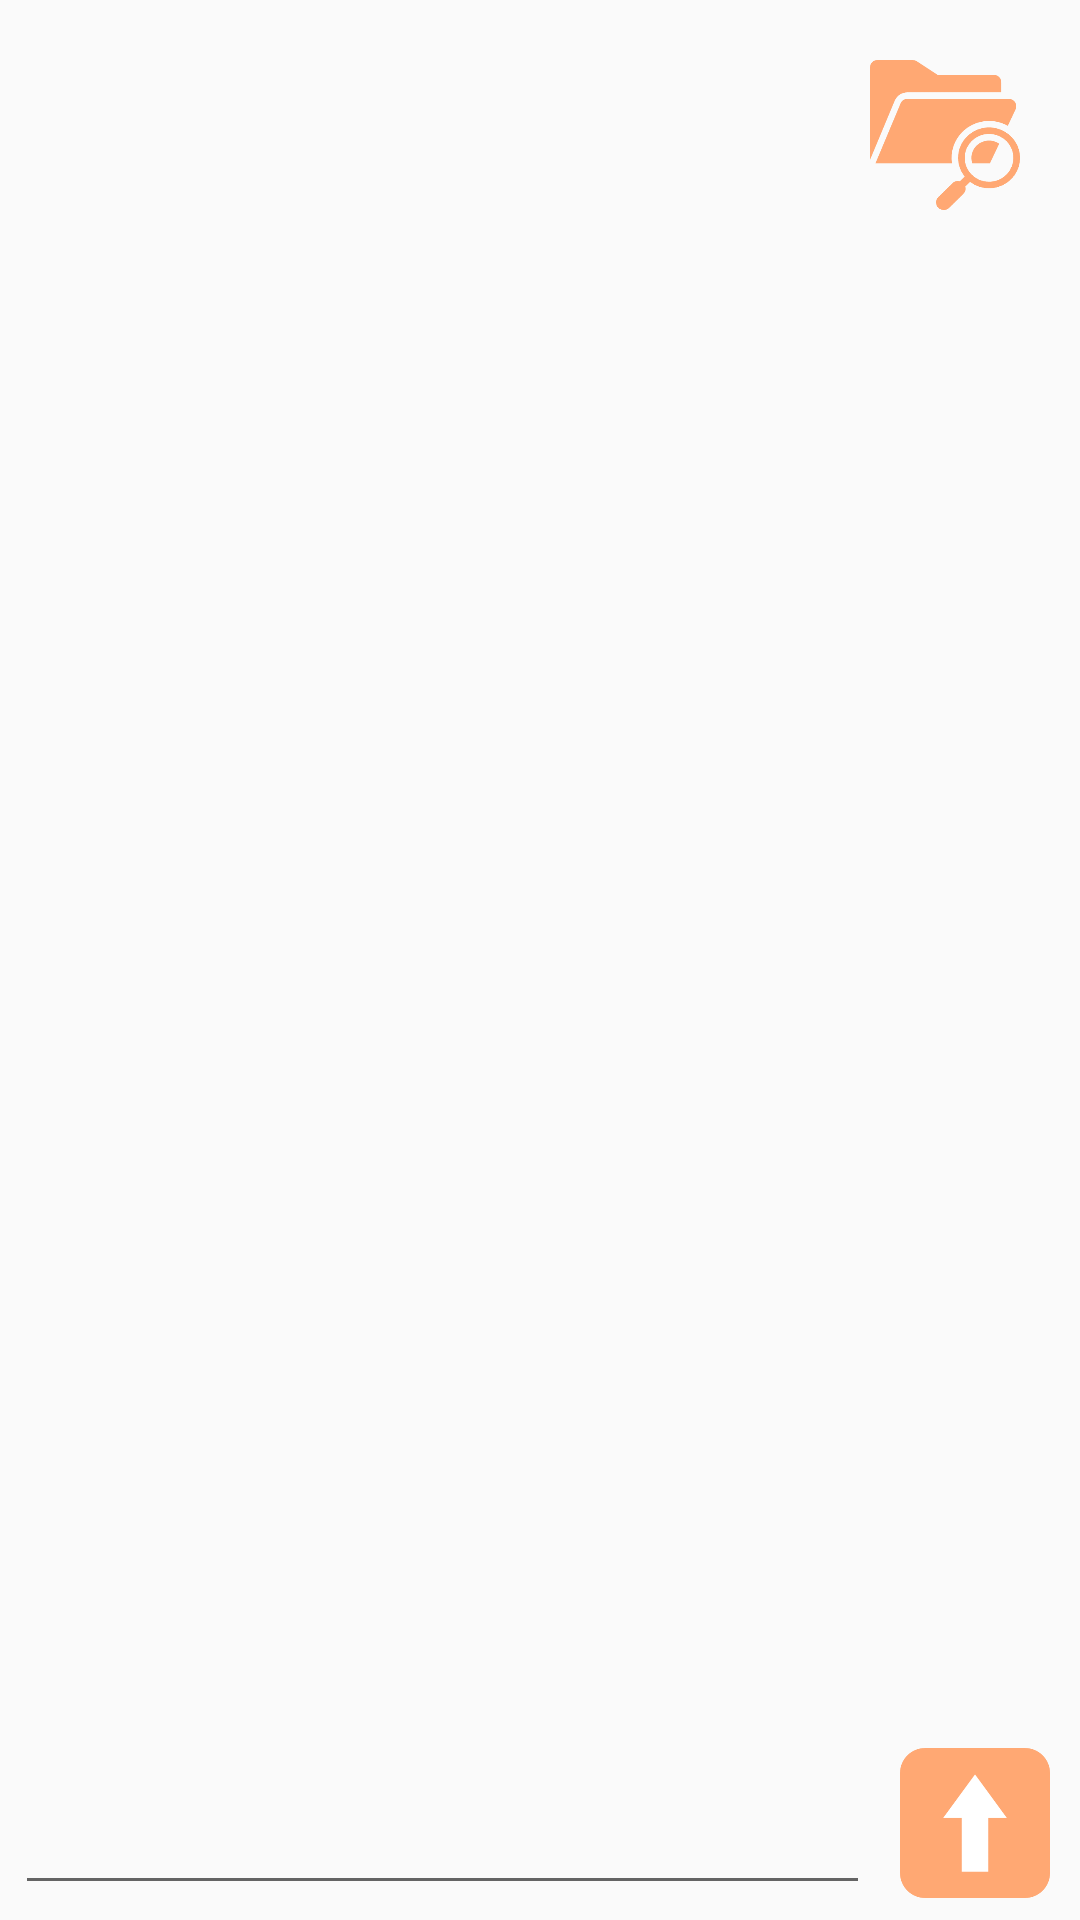

Icon bounding boxes for this 1080px×1920px phone screenshot, format (x1, y1, x2, y2):
folder: (870, 60, 1020, 210)
